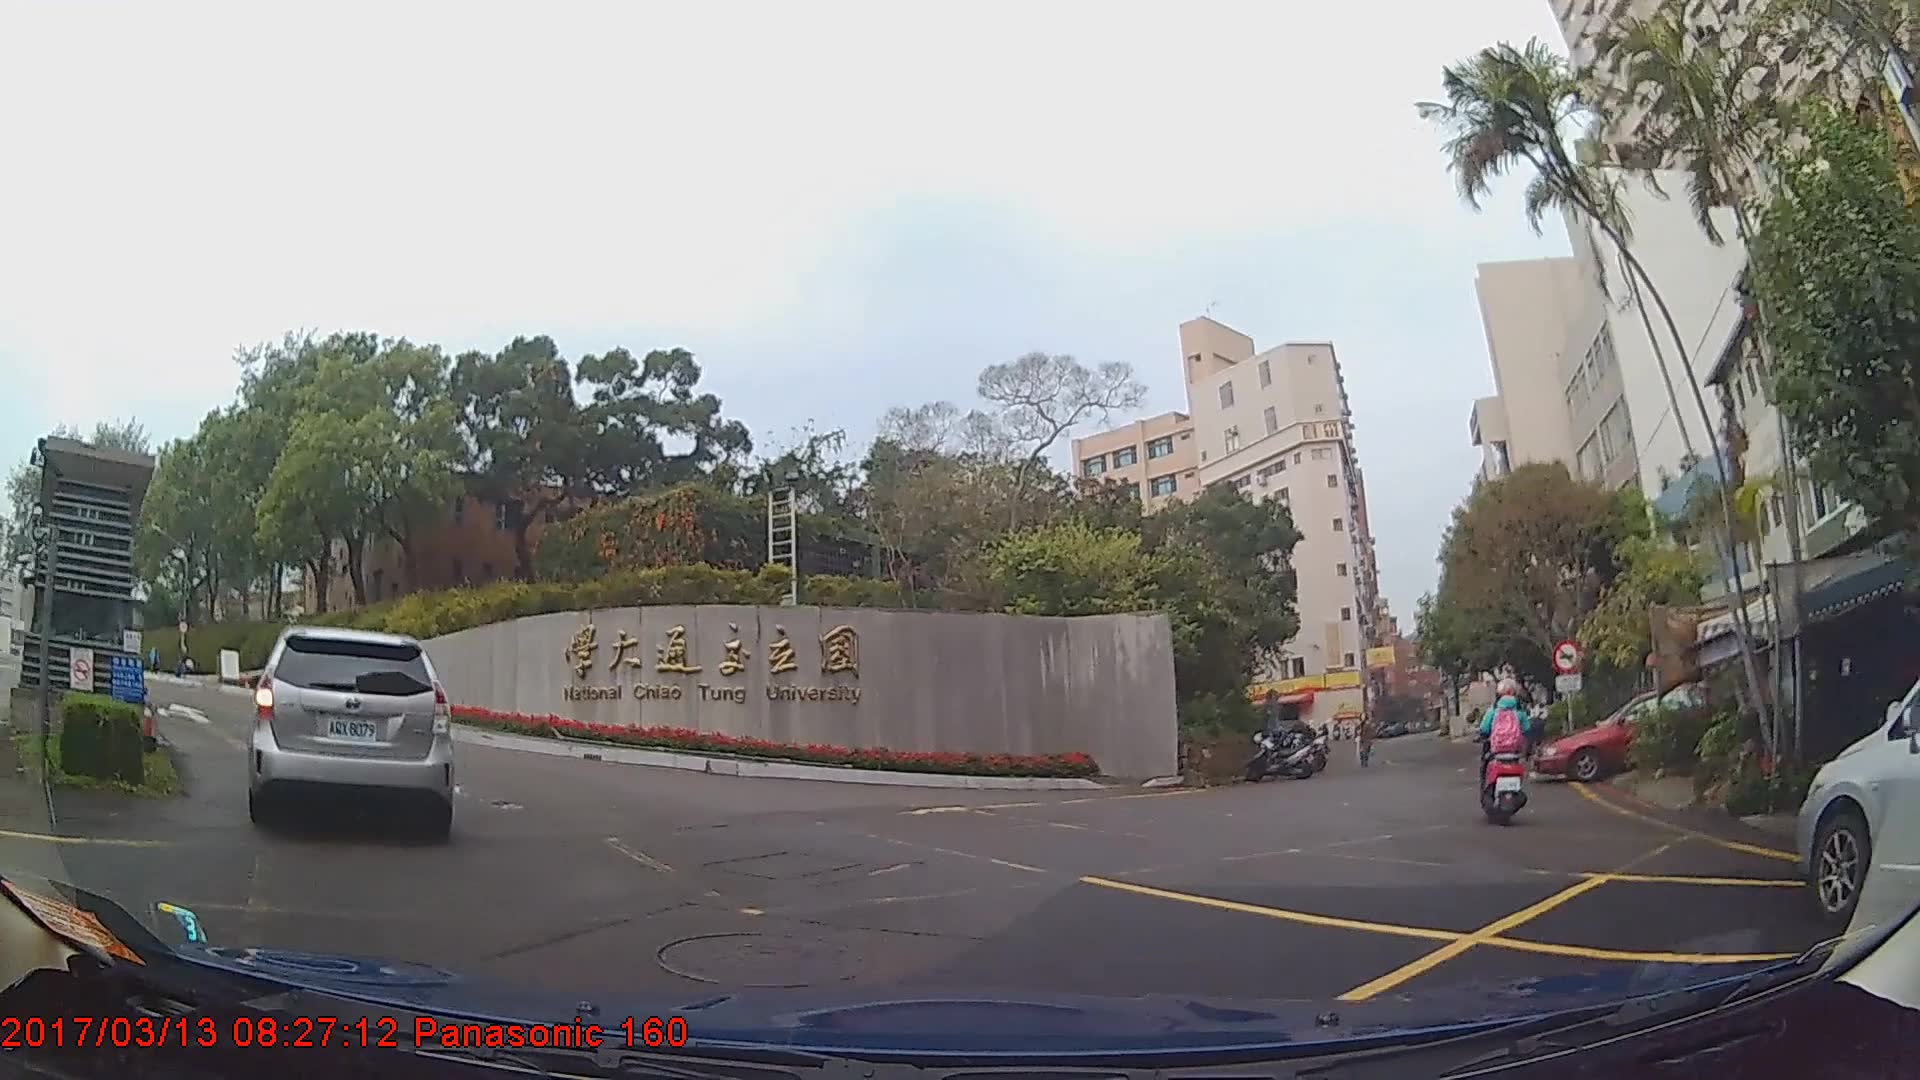pedestrian: (1353, 711, 1377, 768)
rider: (1477, 665, 1531, 822)
vehicle: (245, 624, 452, 838), (1793, 674, 1920, 922), (1533, 684, 1731, 781)
